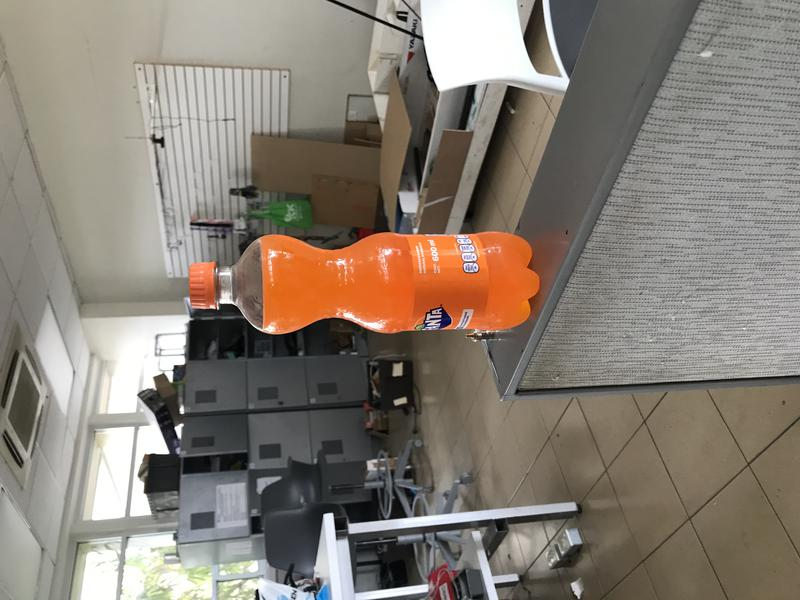fanta: (188, 229, 540, 336)
